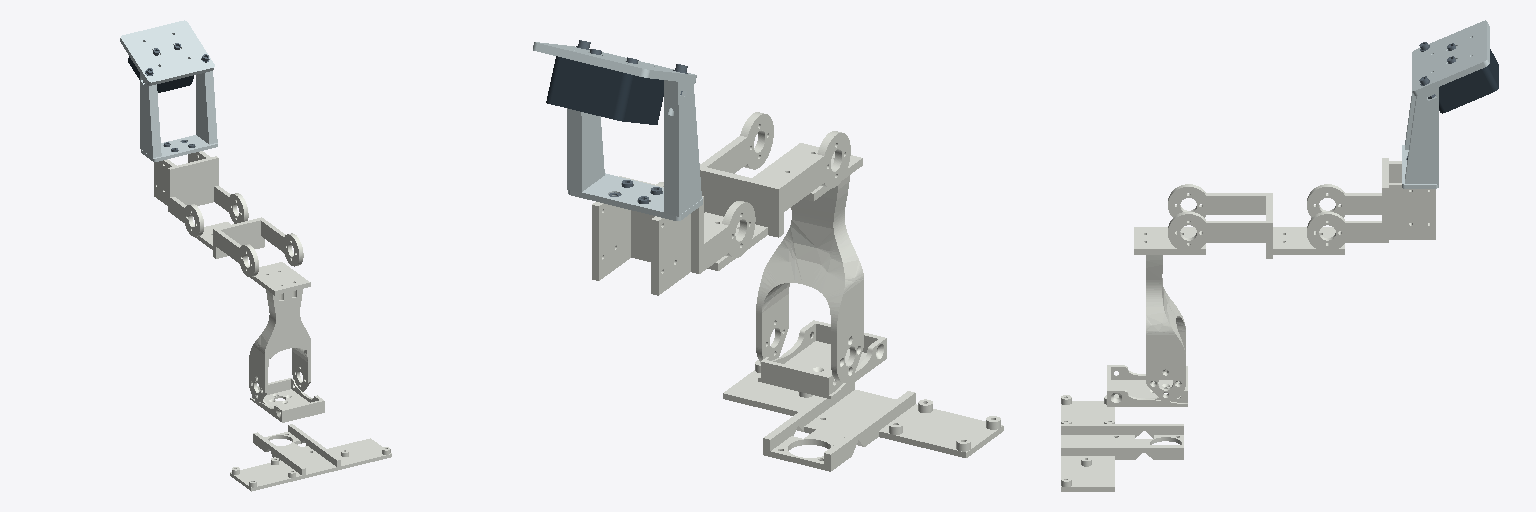
The robot description file, URDF, robot "current_R3_R5_D405_kinematic":
<?xml version='1.0' encoding='utf-8'?>
<robot name="current_R3_R5_D405_kinematic">
  <!--Simulation only. Demo joint limits and inertias are not hardware specifications.-->
  <mujoco>
    <compiler angle="radian" meshdir="meshes" strippath="true" discardvisual="false" fusestatic="false" inertiafromgeom="false" />
    <option gravity="0 0 0" />
  </mujoco>
  <link name="base_link">
    <inertial>
      <origin xyz="0 0 0" rpy="0 0 0" />
      <mass value="0.1" />
      <inertia ixx="0.001" iyy="0.001" izz="0.001" ixy="0" ixz="0" iyz="0" />
    </inertial>
    <visual name="M01">
      <origin xyz="0 0 0" rpy="0 0 0" />
      <geometry>
        <mesh filename="meshes/M01.obj" scale="1 1 1" />
      </geometry>
      <material name="material_M01">
        <color rgba="0.68 0.71 0.73 1" />
      </material>
    </visual>
    <visual name="P01_base">
      <origin xyz="0 0 0" rpy="0 0 0" />
      <geometry>
        <mesh filename="meshes/P01_base.obj" scale="1 1 1" />
      </geometry>
      <material name="material_P01_base">
        <color rgba="0.92 0.93 0.9 1" />
      </material>
    </visual>
  </link>
  <link name="arm_link_1">
    <inertial>
      <origin xyz="0 0 0" rpy="0 0 0" />
      <mass value="0.1" />
      <inertia ixx="0.001" iyy="0.001" izz="0.001" ixy="0" ixz="0" iyz="0" />
    </inertial>
    <visual name="M02">
      <origin xyz="0 0 0" rpy="0 0 0" />
      <geometry>
        <mesh filename="meshes/M02.obj" scale="1 1 1" />
      </geometry>
      <material name="material_M02">
        <color rgba="0.68 0.71 0.73 1" />
      </material>
    </visual>
    <visual name="P02_yaw_carrier">
      <origin xyz="0 0 0" rpy="0 0 0" />
      <geometry>
        <mesh filename="meshes/P02_yaw_carrier.obj" scale="1 1 1" />
      </geometry>
      <material name="material_P02_yaw_carrier">
        <color rgba="0.92 0.93 0.9 1" />
      </material>
    </visual>
  </link>
  <link name="arm_link_2">
    <inertial>
      <origin xyz="0 0 0" rpy="0 0 0" />
      <mass value="0.1" />
      <inertia ixx="0.001" iyy="0.001" izz="0.001" ixy="0" ixz="0" iyz="0" />
    </inertial>
    <visual name="M03">
      <origin xyz="0 0 0" rpy="0 0 0" />
      <geometry>
        <mesh filename="meshes/M03.obj" scale="1 1 1" />
      </geometry>
      <material name="material_M03">
        <color rgba="0.68 0.71 0.73 1" />
      </material>
    </visual>
    <visual name="P03_shoulder_XL430">
      <origin xyz="0 0 0" rpy="0 0 0" />
      <geometry>
        <mesh filename="meshes/P03_shoulder_XL430.obj" scale="1 1 1" />
      </geometry>
      <material name="material_P03_shoulder_XL430">
        <color rgba="0.92 0.93 0.9 1" />
      </material>
    </visual>
  </link>
  <link name="arm_link_3">
    <inertial>
      <origin xyz="0 0 0" rpy="0 0 0" />
      <mass value="0.1" />
      <inertia ixx="0.001" iyy="0.001" izz="0.001" ixy="0" ixz="0" iyz="0" />
    </inertial>
    <visual name="M04">
      <origin xyz="0 0 0" rpy="0 0 0" />
      <geometry>
        <mesh filename="meshes/M04.obj" scale="1 1 1" />
      </geometry>
      <material name="material_M04">
        <color rgba="0.68 0.71 0.73 1" />
      </material>
    </visual>
    <visual name="P04_extension_XL430">
      <origin xyz="0 0 0" rpy="0 0 0" />
      <geometry>
        <mesh filename="meshes/P04_extension_XL430.obj" scale="1 1 1" />
      </geometry>
      <material name="material_P04_extension_XL430">
        <color rgba="0.92 0.93 0.9 1" />
      </material>
    </visual>
  </link>
  <link name="arm_link_4">
    <inertial>
      <origin xyz="0 0 0" rpy="0 0 0" />
      <mass value="0.1" />
      <inertia ixx="0.001" iyy="0.001" izz="0.001" ixy="0" ixz="0" iyz="0" />
    </inertial>
    <visual name="M05">
      <origin xyz="0 0 0" rpy="0 0 0" />
      <geometry>
        <mesh filename="meshes/M05.obj" scale="1 1 1" />
      </geometry>
      <material name="material_M05">
        <color rgba="0.68 0.71 0.73 1" />
      </material>
    </visual>
    <visual name="P05_wrist_XL430">
      <origin xyz="0 0 0" rpy="0 0 0" />
      <geometry>
        <mesh filename="meshes/P05_wrist_XL430.obj" scale="1 1 1" />
      </geometry>
      <material name="material_P05_wrist_XL430">
        <color rgba="0.92 0.93 0.9 1" />
      </material>
    </visual>
    <visual name="r5_65_CAM5_BASE">
      <origin xyz="0 0 0" rpy="0 0 0" />
      <geometry>
        <mesh filename="meshes/r5_65_CAM5_BASE.obj" scale="1 1 1" />
      </geometry>
      <material name="material_r5_65_CAM5_BASE">
        <color rgba="0.84 0.89 0.9 1" />
      </material>
    </visual>
    <visual name="r5_65_CAM5_D405_CARRIER">
      <origin xyz="0 0 0" rpy="0 0 0" />
      <geometry>
        <mesh filename="meshes/r5_65_CAM5_D405_CARRIER.obj" scale="1 1 1" />
      </geometry>
      <material name="material_r5_65_CAM5_D405_CARRIER">
        <color rgba="0.84 0.89 0.9 1" />
      </material>
    </visual>
    <visual name="r5_65_CAM5_BASE_WASHER_0">
      <origin xyz="0 0 0" rpy="0 0 0" />
      <geometry>
        <mesh filename="meshes/r5_65_CAM5_BASE_WASHER_0.obj" scale="1 1 1" />
      </geometry>
      <material name="material_r5_65_CAM5_BASE_WASHER_0">
        <color rgba="0.43 0.48 0.52 1" />
      </material>
    </visual>
    <visual name="r5_65_CAM5_BASE_TAP_0">
      <origin xyz="0 0 0" rpy="0 0 0" />
      <geometry>
        <mesh filename="meshes/r5_65_CAM5_BASE_TAP_0.obj" scale="1 1 1" />
      </geometry>
      <material name="material_r5_65_CAM5_BASE_TAP_0">
        <color rgba="0.43 0.48 0.52 1" />
      </material>
    </visual>
    <visual name="r5_65_CAM5_BASE_WASHER_1">
      <origin xyz="0 0 0" rpy="0 0 0" />
      <geometry>
        <mesh filename="meshes/r5_65_CAM5_BASE_WASHER_1.obj" scale="1 1 1" />
      </geometry>
      <material name="material_r5_65_CAM5_BASE_WASHER_1">
        <color rgba="0.43 0.48 0.52 1" />
      </material>
    </visual>
    <visual name="r5_65_CAM5_BASE_TAP_1">
      <origin xyz="0 0 0" rpy="0 0 0" />
      <geometry>
        <mesh filename="meshes/r5_65_CAM5_BASE_TAP_1.obj" scale="1 1 1" />
      </geometry>
      <material name="material_r5_65_CAM5_BASE_TAP_1">
        <color rgba="0.43 0.48 0.52 1" />
      </material>
    </visual>
    <visual name="r5_65_CAM5_BASE_WASHER_2">
      <origin xyz="0 0 0" rpy="0 0 0" />
      <geometry>
        <mesh filename="meshes/r5_65_CAM5_BASE_WASHER_2.obj" scale="1 1 1" />
      </geometry>
      <material name="material_r5_65_CAM5_BASE_WASHER_2">
        <color rgba="0.43 0.48 0.52 1" />
      </material>
    </visual>
    <visual name="r5_65_CAM5_BASE_TAP_2">
      <origin xyz="0 0 0" rpy="0 0 0" />
      <geometry>
        <mesh filename="meshes/r5_65_CAM5_BASE_TAP_2.obj" scale="1 1 1" />
      </geometry>
      <material name="material_r5_65_CAM5_BASE_TAP_2">
        <color rgba="0.43 0.48 0.52 1" />
      </material>
    </visual>
    <visual name="r5_65_CAM5_BASE_WASHER_3">
      <origin xyz="0 0 0" rpy="0 0 0" />
      <geometry>
        <mesh filename="meshes/r5_65_CAM5_BASE_WASHER_3.obj" scale="1 1 1" />
      </geometry>
      <material name="material_r5_65_CAM5_BASE_WASHER_3">
        <color rgba="0.43 0.48 0.52 1" />
      </material>
    </visual>
    <visual name="r5_65_CAM5_BASE_TAP_3">
      <origin xyz="0 0 0" rpy="0 0 0" />
      <geometry>
        <mesh filename="meshes/r5_65_CAM5_BASE_TAP_3.obj" scale="1 1 1" />
      </geometry>
      <material name="material_r5_65_CAM5_BASE_TAP_3">
        <color rgba="0.43 0.48 0.52 1" />
      </material>
    </visual>
    <visual name="r5_65_CAM5_TIE_WASHER_0">
      <origin xyz="0 0 0" rpy="0 0 0" />
      <geometry>
        <mesh filename="meshes/r5_65_CAM5_TIE_WASHER_0.obj" scale="1 1 1" />
      </geometry>
      <material name="material_r5_65_CAM5_TIE_WASHER_0">
        <color rgba="0.43 0.48 0.52 1" />
      </material>
    </visual>
    <visual name="r5_65_CAM5_TIE_BOLT_0">
      <origin xyz="0 0 0" rpy="0 0 0" />
      <geometry>
        <mesh filename="meshes/r5_65_CAM5_TIE_BOLT_0.obj" scale="1 1 1" />
      </geometry>
      <material name="material_r5_65_CAM5_TIE_BOLT_0">
        <color rgba="0.43 0.48 0.52 1" />
      </material>
    </visual>
    <visual name="r5_65_CAM5_TIE_NUT_0">
      <origin xyz="0 0 0" rpy="0 0 0" />
      <geometry>
        <mesh filename="meshes/r5_65_CAM5_TIE_NUT_0.obj" scale="1 1 1" />
      </geometry>
      <material name="material_r5_65_CAM5_TIE_NUT_0">
        <color rgba="0.43 0.48 0.52 1" />
      </material>
    </visual>
    <visual name="r5_65_CAM5_TIE_WASHER_1">
      <origin xyz="0 0 0" rpy="0 0 0" />
      <geometry>
        <mesh filename="meshes/r5_65_CAM5_TIE_WASHER_1.obj" scale="1 1 1" />
      </geometry>
      <material name="material_r5_65_CAM5_TIE_WASHER_1">
        <color rgba="0.43 0.48 0.52 1" />
      </material>
    </visual>
    <visual name="r5_65_CAM5_TIE_BOLT_1">
      <origin xyz="0 0 0" rpy="0 0 0" />
      <geometry>
        <mesh filename="meshes/r5_65_CAM5_TIE_BOLT_1.obj" scale="1 1 1" />
      </geometry>
      <material name="material_r5_65_CAM5_TIE_BOLT_1">
        <color rgba="0.43 0.48 0.52 1" />
      </material>
    </visual>
    <visual name="r5_65_CAM5_TIE_NUT_1">
      <origin xyz="0 0 0" rpy="0 0 0" />
      <geometry>
        <mesh filename="meshes/r5_65_CAM5_TIE_NUT_1.obj" scale="1 1 1" />
      </geometry>
      <material name="material_r5_65_CAM5_TIE_NUT_1">
        <color rgba="0.43 0.48 0.52 1" />
      </material>
    </visual>
    <visual name="r5_65_CAM5_D405_SCREW_0">
      <origin xyz="0 0 0" rpy="0 0 0" />
      <geometry>
        <mesh filename="meshes/r5_65_CAM5_D405_SCREW_0.obj" scale="1 1 1" />
      </geometry>
      <material name="material_r5_65_CAM5_D405_SCREW_0">
        <color rgba="0.43 0.48 0.52 1" />
      </material>
    </visual>
    <visual name="r5_65_CAM5_D405_SCREW_1">
      <origin xyz="0 0 0" rpy="0 0 0" />
      <geometry>
        <mesh filename="meshes/r5_65_CAM5_D405_SCREW_1.obj" scale="1 1 1" />
      </geometry>
      <material name="material_r5_65_CAM5_D405_SCREW_1">
        <color rgba="0.43 0.48 0.52 1" />
      </material>
    </visual>
    <visual name="r5_65_CAM5_D405_BODY">
      <origin xyz="0 0 0" rpy="0 0 0" />
      <geometry>
        <mesh filename="meshes/r5_65_CAM5_D405_BODY.obj" scale="1 1 1" />
      </geometry>
      <material name="material_r5_65_CAM5_D405_BODY">
        <color rgba="0.23 0.28 0.32 1" />
      </material>
    </visual>
  </link>
  <joint name="cad_j1" type="revolute">
    <parent link="base_link" />
    <child link="arm_link_1" />
    <origin xyz="0 0 0.02" rpy="0 0 0" />
    <axis xyz="0 0 1" />
    <limit lower="-0.6981317007977318" upper="0.6981317007977318" effort="1" velocity="0.1" />
  </joint>
  <joint name="cad_j2" type="revolute">
    <parent link="arm_link_1" />
    <child link="arm_link_2" />
    <origin xyz="-0.0002 0 0.0363" rpy="0 0 0" />
    <axis xyz="-1 0 0" />
    <limit lower="-0.6981317007977318" upper="0.6981317007977318" effort="1" velocity="0.1" />
  </joint>
  <joint name="cad_j3" type="revolute">
    <parent link="arm_link_2" />
    <child link="arm_link_3" />
    <origin xyz="0 0.0148 0.1083" rpy="0 0 0" />
    <axis xyz="1 0 0" />
    <limit lower="-1.0471975511965976" upper="1.0471975511965976" effort="1" velocity="0.1" />
  </joint>
  <joint name="cad_j4" type="revolute">
    <parent link="arm_link_3" />
    <child link="arm_link_4" />
    <origin xyz="0 0.0901 0" rpy="0 0 0" />
    <axis xyz="1 0 0" />
    <limit lower="-1.0471975511965976" upper="1.0471975511965976" effort="1" velocity="0.1" />
  </joint>
  <link name="tool_link" />
  <joint name="tool_fixed" type="fixed">
    <parent link="arm_link_4" />
    <child link="tool_link" />
    <origin xyz="0 0.06 0" rpy="0 0 0" />
  </joint>
</robot>

--- What the picture shows (computed from the rendered views, not written in the file) ---
Views: 3 orthographic renders of the robot side by side, from view 1: azimuth 30°, elevation 25°; view 2: azimuth 150°, elevation 25°; view 3: azimuth 270°, elevation 25°.
Robot: current_R3_R5_D405_kinematic — 6 links, 5 joints (4 revolute, 1 fixed); root link base_link; default pose: every joint at zero.
Links seen in each view (by area): view 1: arm_link_4, arm_link_2, base_link, arm_link_3, arm_link_1; view 2: arm_link_4, arm_link_2, base_link, arm_link_3, arm_link_1; view 3: arm_link_4, base_link, arm_link_3, arm_link_2, arm_link_1.
Boxes of the visible links, x1,y1,x2,y2 form: arm_link_4: [120, 20, 248, 236]; arm_link_2: [249, 262, 310, 402]; base_link: [230, 424, 391, 491]; arm_link_3: [195, 217, 303, 276]; arm_link_1: [250, 378, 324, 422]; arm_link_4: [533, 40, 755, 295]; arm_link_2: [753, 143, 863, 382]; base_link: [723, 360, 1003, 471]; arm_link_3: [700, 112, 850, 270]; arm_link_1: [758, 320, 886, 398]; arm_link_4: [1307, 20, 1498, 251]; base_link: [1061, 395, 1183, 491]; arm_link_3: [1168, 184, 1344, 258]; arm_link_2: [1134, 227, 1205, 401]; arm_link_1: [1107, 365, 1187, 406].
Size in the robot's own frame: 0.133 by 0.284 by 0.292 metres.
21 mesh visuals loaded from 29 distinct referenced files (21 OBJ); not drawn: 8 (reference not matched to a file when rendering).
